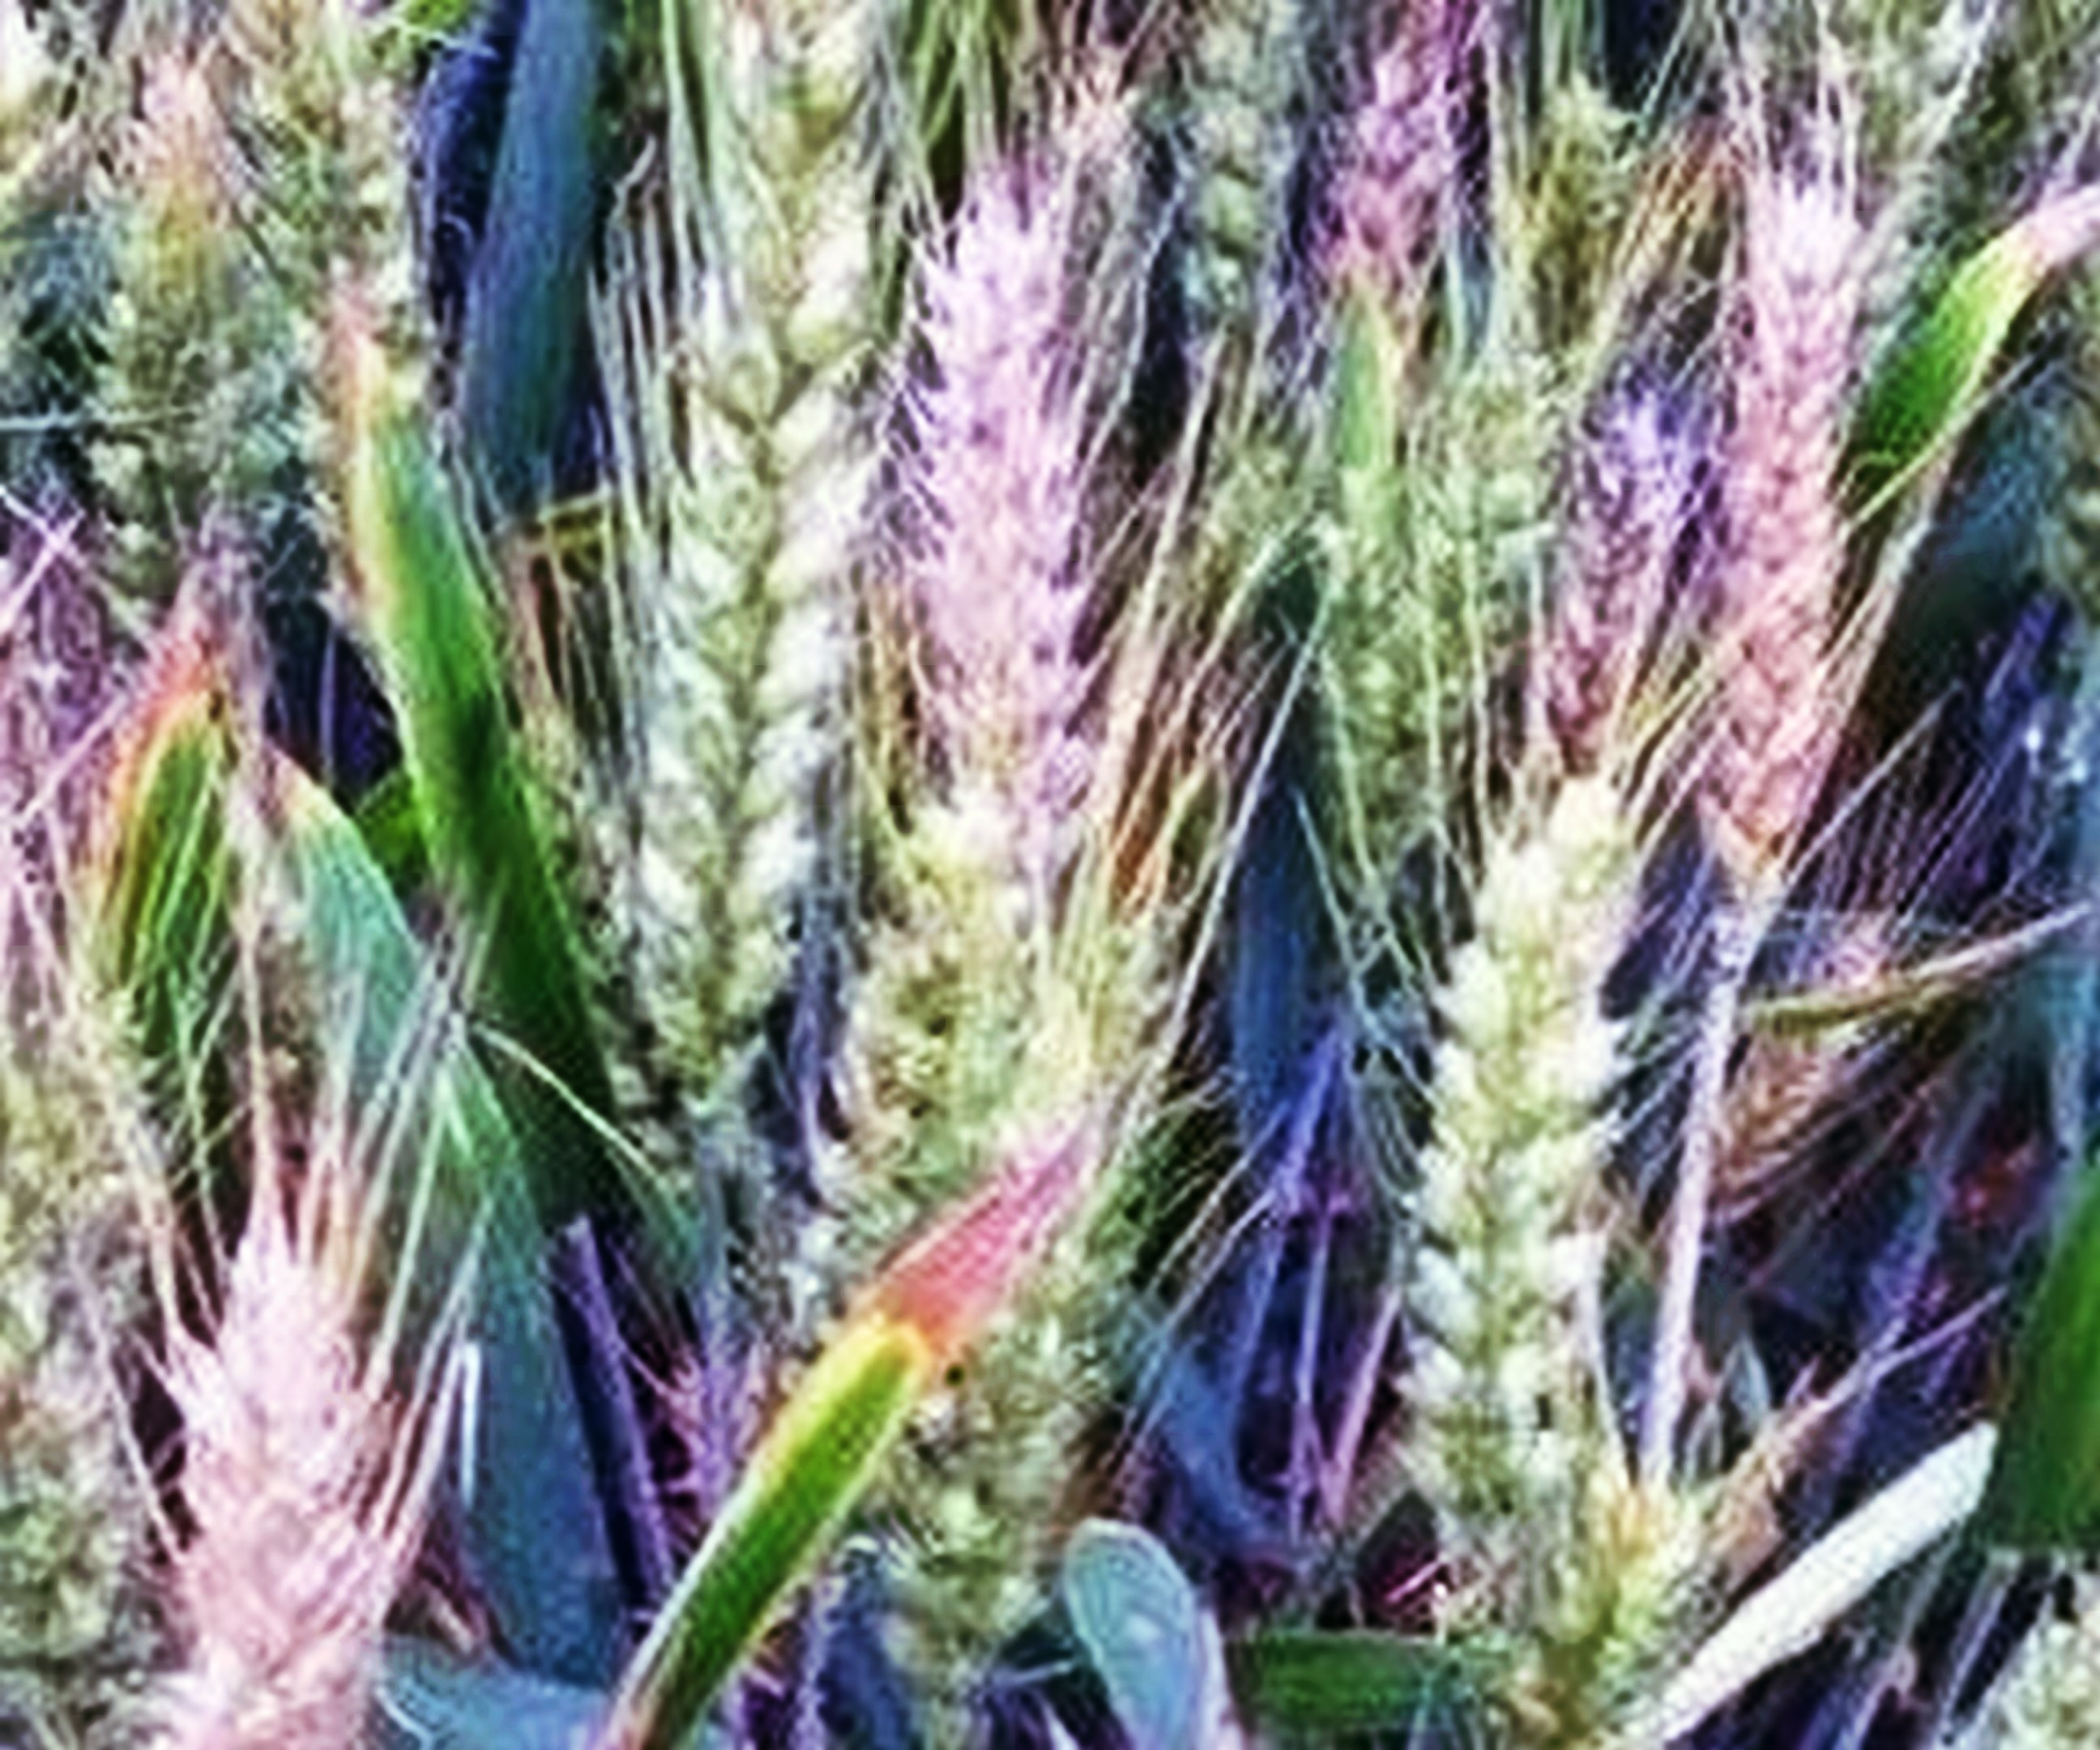Wheat scab: (1723, 181, 1873, 906)
